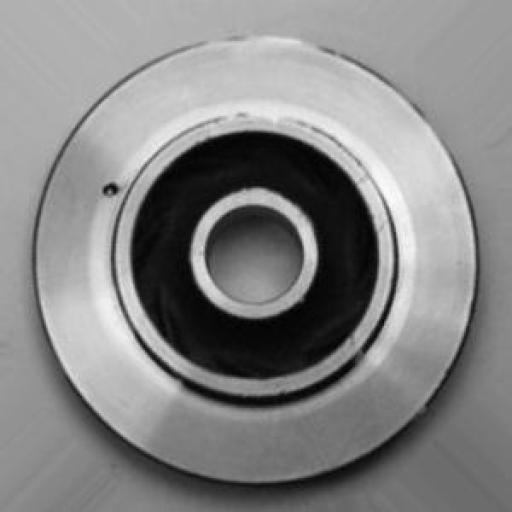defect: (89, 160, 139, 224)
